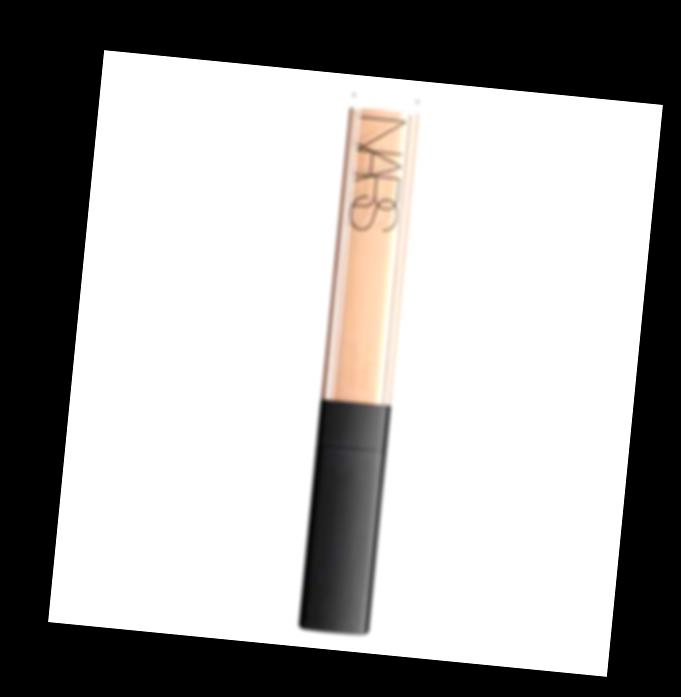cosmetic: (295, 88, 421, 635)
